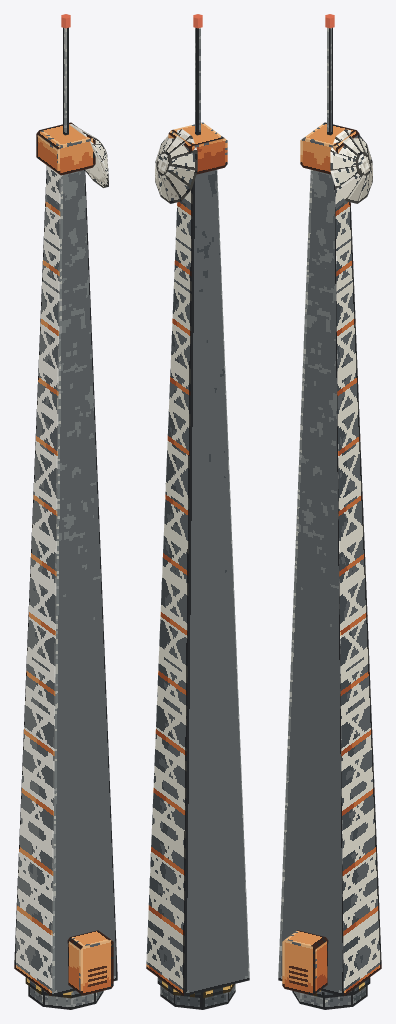
Rendered from st_relay.glb.
The picture shows the model from 3 angles, left to right: view 1: azimuth 30°, elevation 25°; view 2: azimuth 210°, elevation 25°; view 3: azimuth 330°, elevation 25°; orthographic projection.
Visible parts, largest first — view 1: tower, cabinet, head, footing, dish, whip, collar; view 2: tower, dish, head, footing, whip, collar; view 3: tower, cabinet, dish, head, footing, whip, collar.
Boxes of the visible parts, <box> form: tower: <box>14,165,117,996</box>; cabinet: <box>67,930,113,995</box>; head: <box>36,122,95,175</box>; footing: <box>28,986,103,1009</box>; dish: <box>69,124,108,187</box>; whip: <box>63,27,68,135</box>; collar: <box>25,977,82,998</box>; tower: <box>146,169,249,996</box>; dish: <box>155,129,197,203</box>; head: <box>168,122,227,174</box>; footing: <box>160,984,235,1009</box>; whip: <box>195,27,200,135</box>; collar: <box>157,977,234,998</box>; tower: <box>278,169,381,996</box>; cabinet: <box>282,930,328,995</box>; dish: <box>330,129,372,203</box>; head: <box>300,122,359,174</box>; footing: <box>292,986,367,1009</box>; whip: <box>327,27,332,135</box>; collar: <box>313,977,370,998</box>.
Size of the model in its own units: 15.1 by 199 by 18.5.
1 material, 1 textured.
